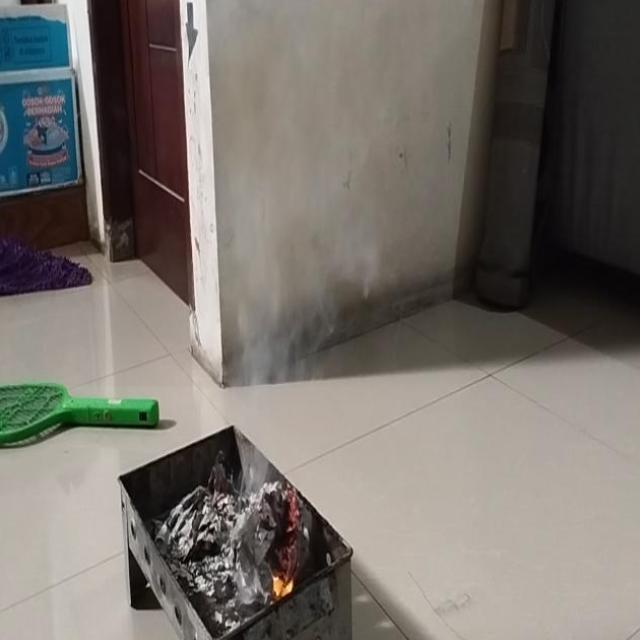fire: (218, 8, 388, 357), (237, 358, 300, 490)
smoke: (267, 565, 298, 604)
